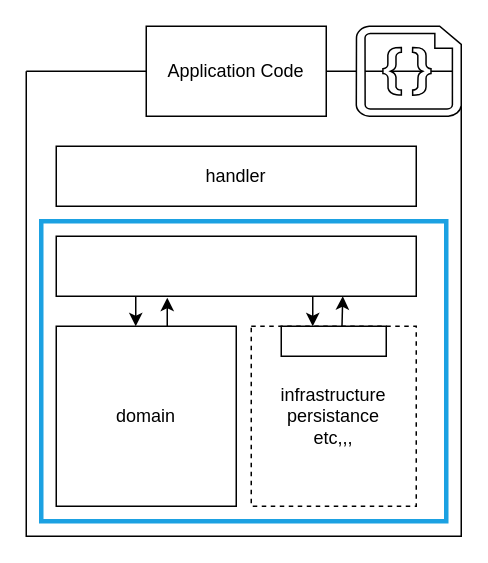
This 488x563 diagram has some shape labels left out. Each missing label, with the centre of its shape:
Mock: [333,340]
usecase: [235,265]
